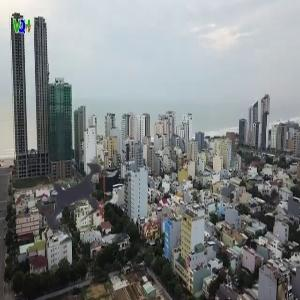drone: (10, 126, 150, 266)
